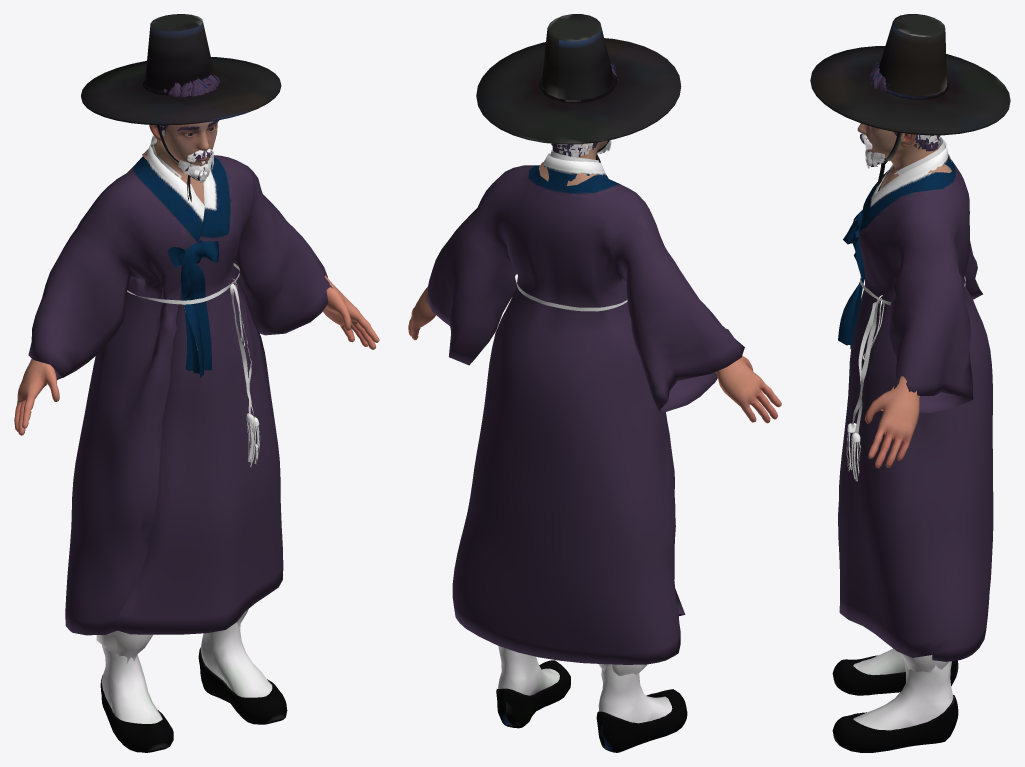
File: scholar2.fbx
3 renders of one model, left to right at view 1: azimuth 30°, elevation 25°; view 2: azimuth 150°, elevation 25°; view 3: azimuth 270°, elevation 25°, orthographic. The views are drawn at different scales.
Visible parts, largest first — view 1: NPC_Scholar_Mesh_0; view 2: NPC_Scholar_Mesh_0; view 3: NPC_Scholar_Mesh_0.
Boxes of the visible parts, x1,y1,x2,y2 form: NPC_Scholar_Mesh_0: [14, 14, 379, 752]; NPC_Scholar_Mesh_0: [408, 14, 781, 752]; NPC_Scholar_Mesh_0: [810, 14, 1010, 752].
Size of the model in its own units: 99.92 by 185 by 48.35.
Materials: 3 (3 with a texture image).
